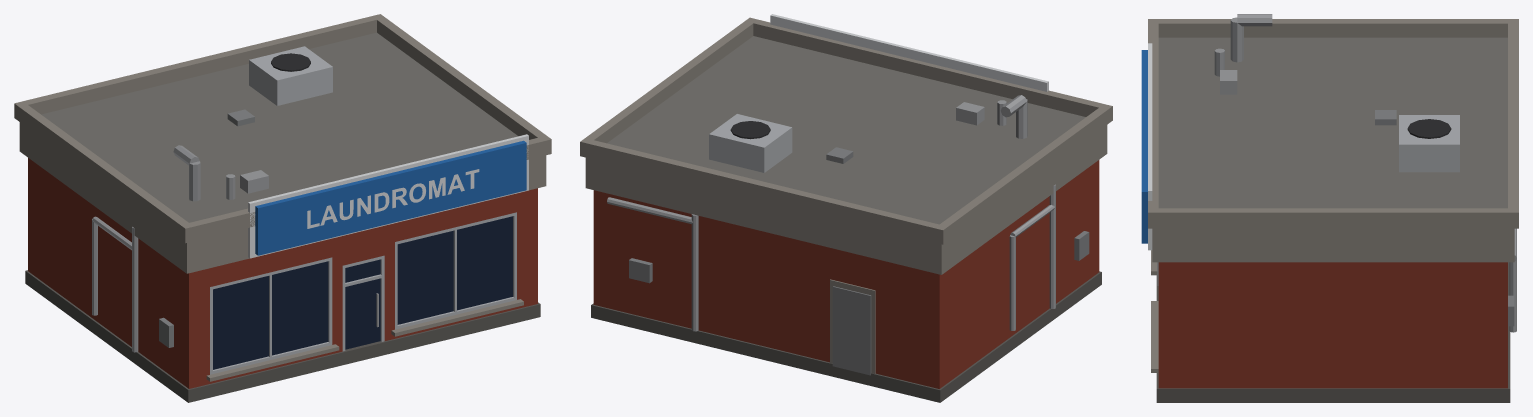
Rendered from laverie_batiment.glb.
3 renders of one model, left to right at view 1: azimuth 30°, elevation 25°; view 2: azimuth 150°, elevation 25°; view 3: azimuth 270°, elevation 25°, orthographic. The views are drawn at different scales.
Parts seen in each view (by area): view 1: laverie_batiment; view 2: laverie_batiment; view 3: laverie_batiment.
Part boxes in pixels (x1,y1,x2,y2): laverie_batiment: [14, 14, 551, 402]; laverie_batiment: [580, 14, 1112, 402]; laverie_batiment: [1141, 14, 1518, 402].
Size of the model in its own units: 10.5 by 5.7 by 8.66.
